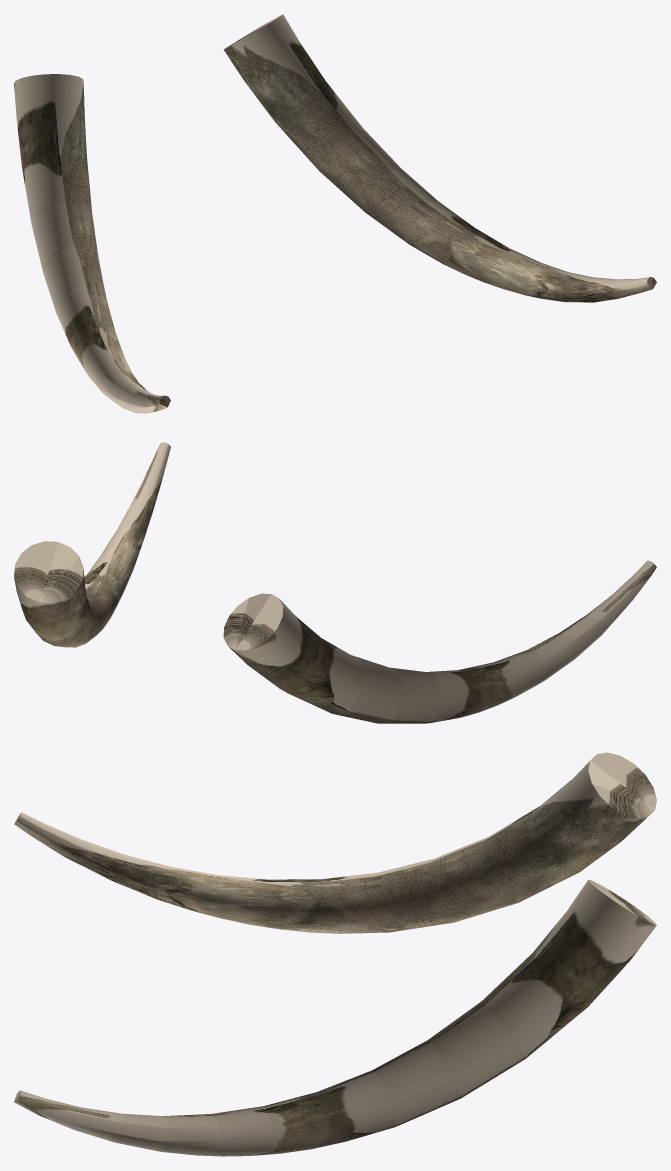
The model's file is Tusk.fbx.
The picture shows the model from 3 angles, top to bottom: view 1: azimuth 30°, elevation 25°; view 2: azimuth 150°, elevation 25°; view 3: azimuth 270°, elevation 25°; orthographic projection. The views are drawn at different scales.
Parts seen in each view (by area): view 1: polySurface1; view 2: polySurface1; view 3: polySurface1.
Boxes of the visible parts, x1=… form: polySurface1: x1=14, y1=14, x2=656, y2=413; polySurface1: x1=14, y1=442, x2=656, y2=723; polySurface1: x1=14, y1=752, x2=656, y2=1156.
Size of the model in its own units: 286 by 102 by 273.
